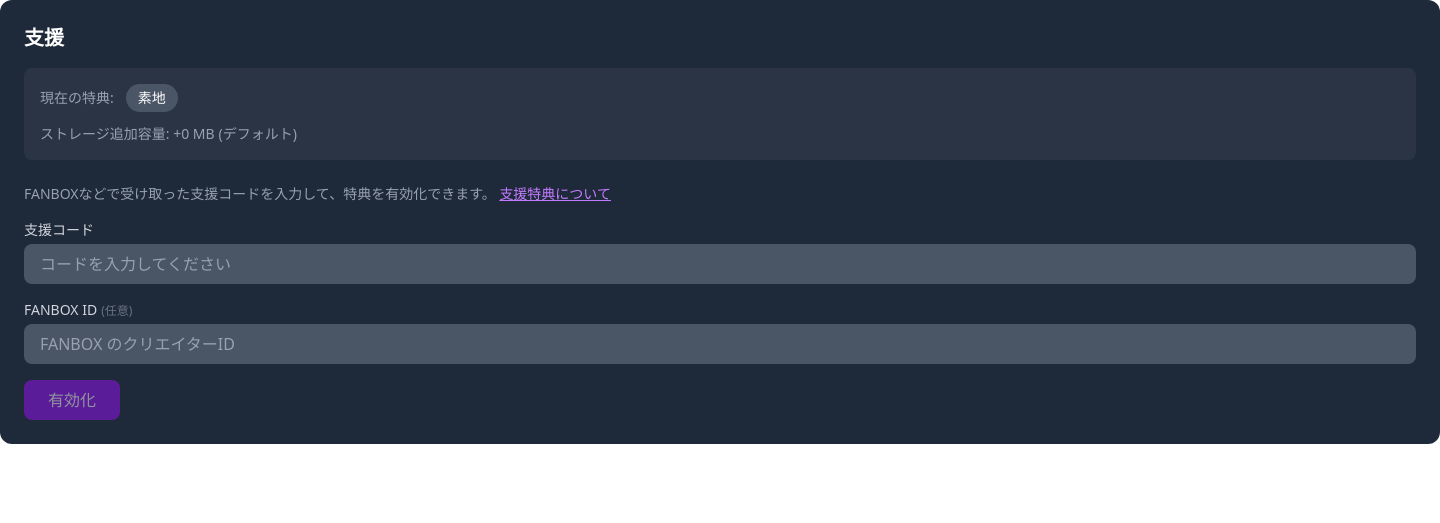
Test case: SupportPlanSection maintenance integration › 事前disableをすり抜けて有効化が503(maintenance)で拒否された場合、サーバーの案内文言を表示する
The width and height of the screenshot is (1440, 523).
Type "CODE123" into the field with placeholder "コードを入力してください" at coordinates (720, 264), box [24,244,1416,284]
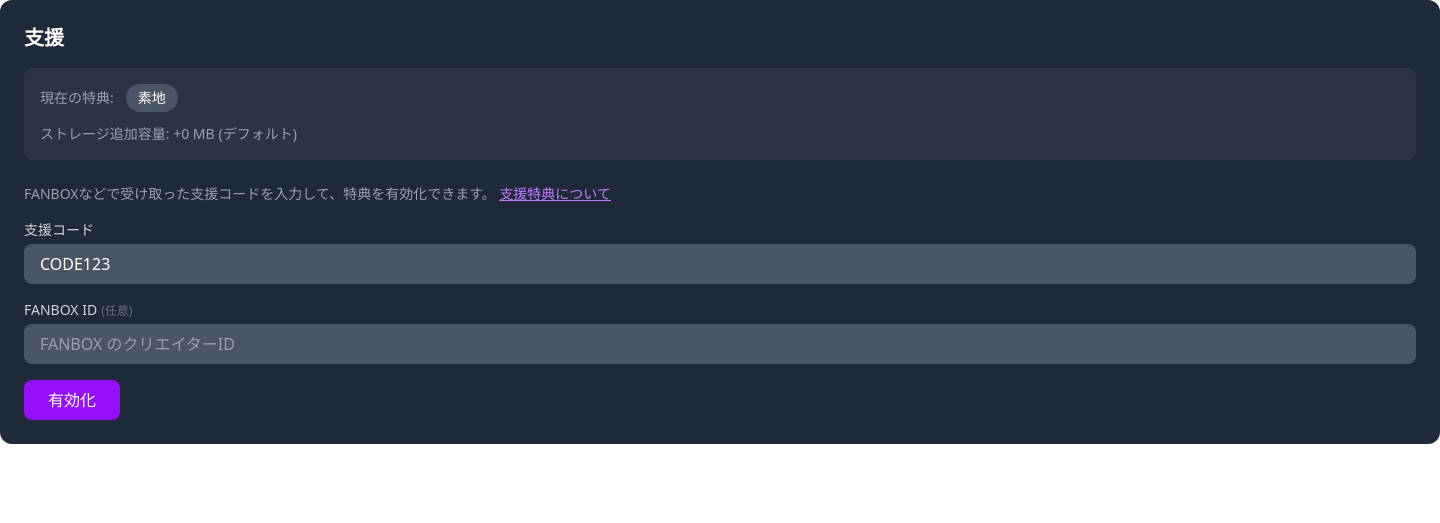
Click the button "有効化" at coordinates (72, 400), box [24,380,120,420]
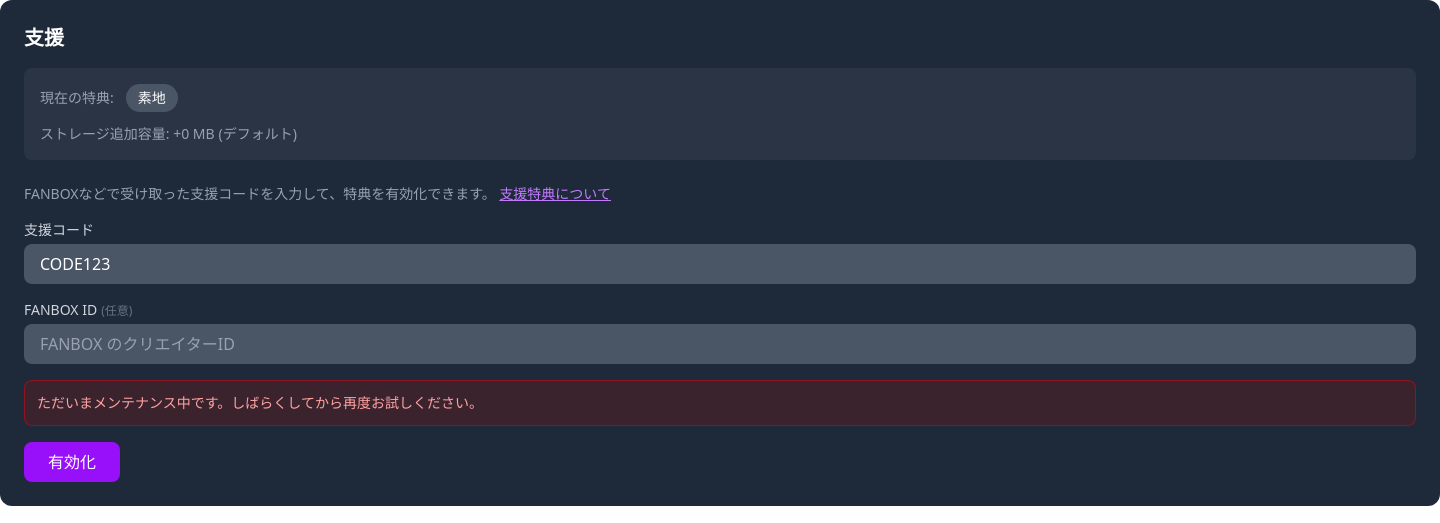
Now the text "ただいまメンテナンス中です。しばらくしてから再度お試しください。" is shown, box [24,380,1416,426]
